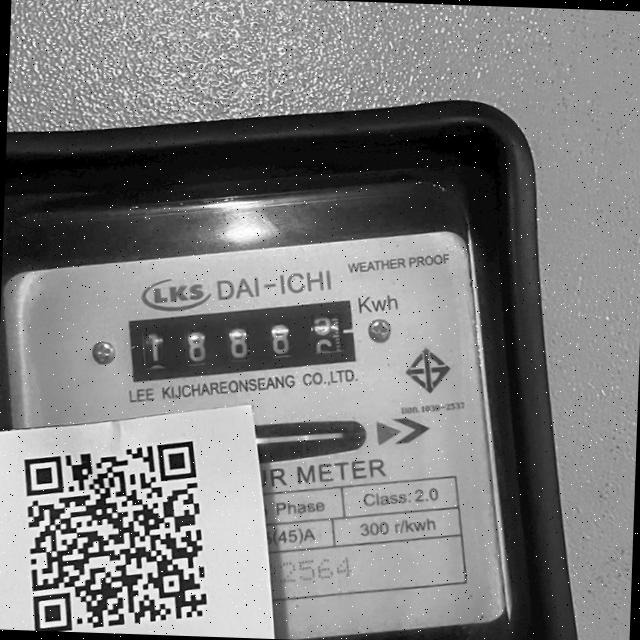qr_code: (18, 435, 212, 632)
